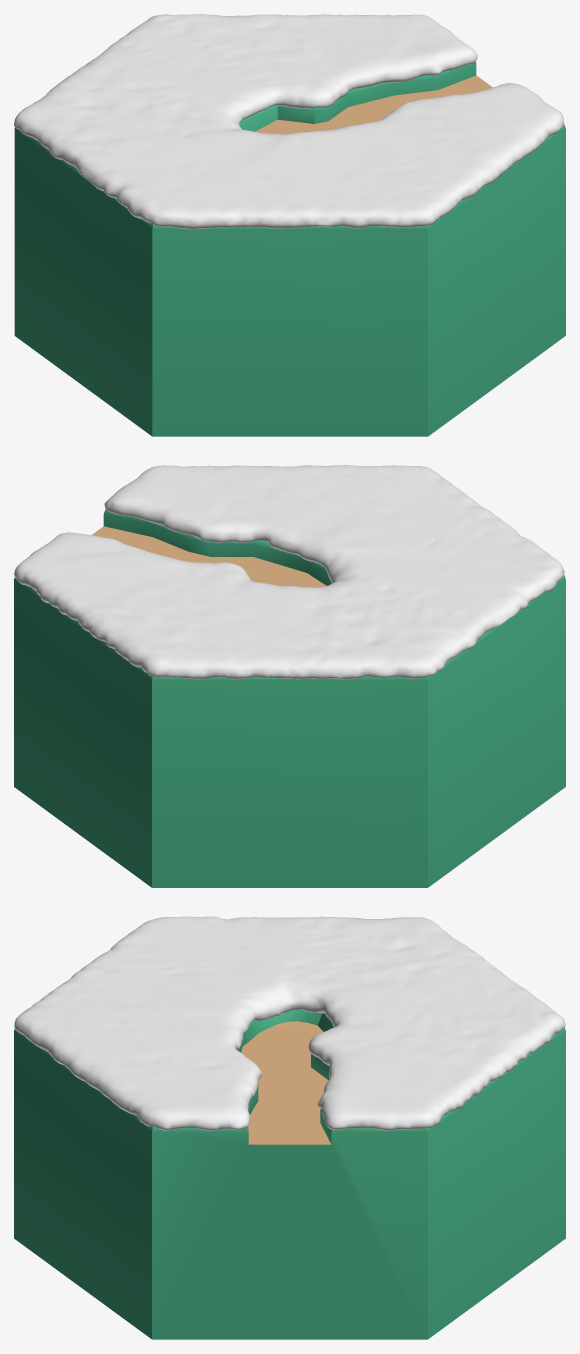
Rendered from snow_hex_forest_roadA.fbx.
3 renders of one model, top to bottom at view 1: azimuth 30°, elevation 25°; view 2: azimuth 150°, elevation 25°; view 3: azimuth 270°, elevation 25°, orthographic.
Visible parts, largest first — view 1: hex_forest_roadA.001, SnowBall.001, hex_forest_roadA; view 2: hex_forest_roadA.001, SnowBall.001, hex_forest_roadA; view 3: hex_forest_roadA.001, SnowBall.001, hex_forest_roadA.
Part boxes in pixels (bbox=[...]): hex_forest_roadA.001: bbox=[14, 61, 565, 436]; SnowBall.001: bbox=[14, 14, 564, 229]; hex_forest_roadA: bbox=[255, 75, 492, 134]; hex_forest_roadA.001: bbox=[14, 509, 565, 887]; SnowBall.001: bbox=[14, 465, 564, 679]; hex_forest_roadA: bbox=[92, 526, 326, 587]; hex_forest_roadA.001: bbox=[14, 1010, 565, 1339]; SnowBall.001: bbox=[14, 916, 565, 1130]; hex_forest_roadA: bbox=[241, 1021, 331, 1144].
Size of the model in its own units: 204 by 104 by 231.
